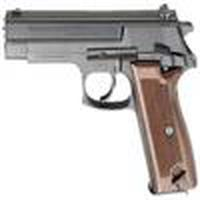gun: (6, 8, 199, 198)
